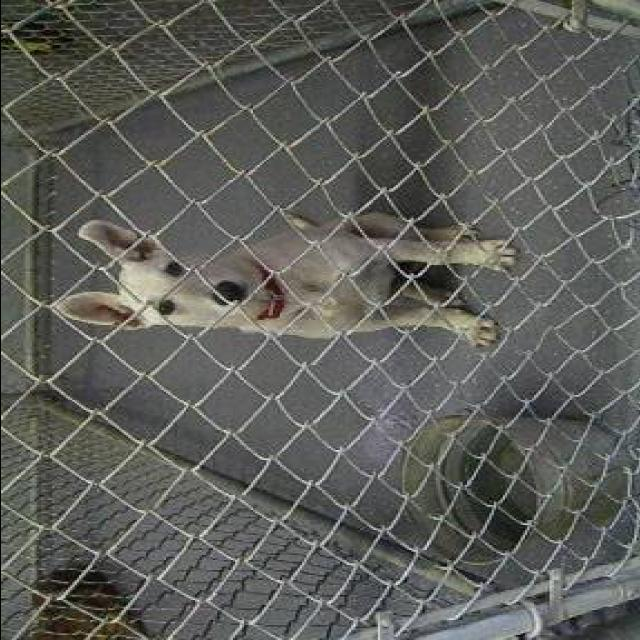dog: (42, 193, 520, 378)
